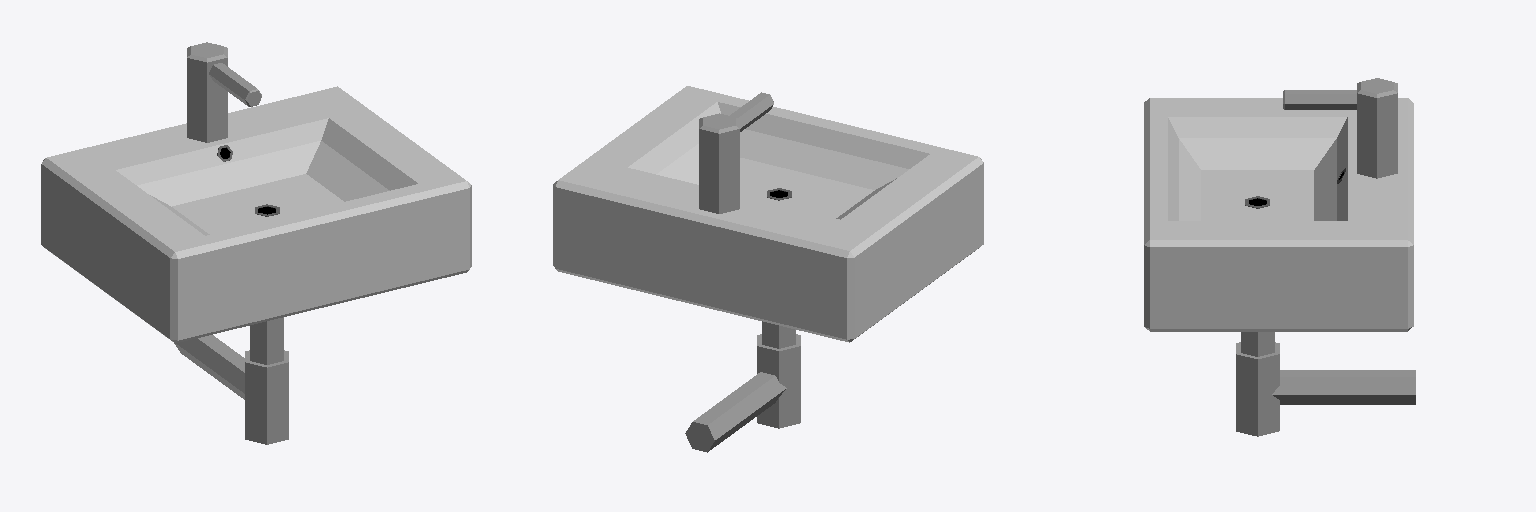
File: bathroomsink2.obj
3 renders of one model, left to right at view 1: azimuth 30°, elevation 25°; view 2: azimuth 150°, elevation 25°; view 3: azimuth 270°, elevation 25°, orthographic.
Parts seen in each view (by area): view 1: Cube; view 2: Cube; view 3: Cube.
Boxes of the visible parts, <box> form: Cube: <box>41,42,471,444</box>; Cube: <box>553,86,983,452</box>; Cube: <box>1144,78,1415,436</box>.
Bounding box in the file's own units: 0.62 × 0.6685 × 0.4842.